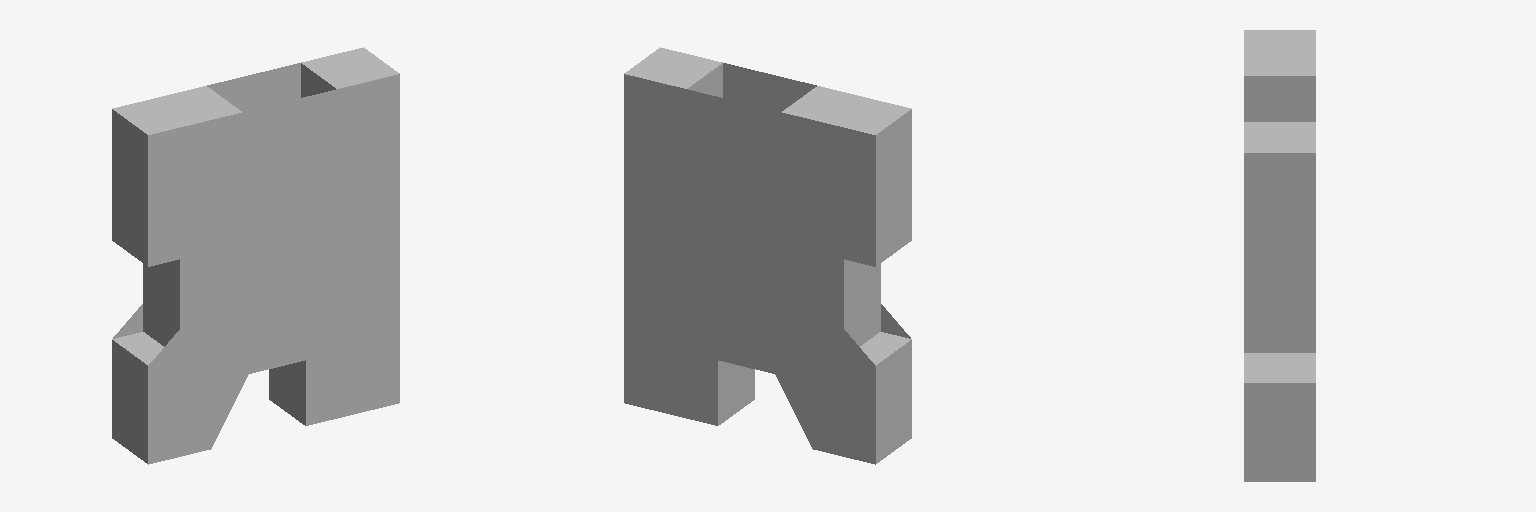
The model's file is building2.obj.
3 renders of one model, left to right at view 1: azimuth 30°, elevation 25°; view 2: azimuth 150°, elevation 25°; view 3: azimuth 270°, elevation 25°, orthographic.
Parts seen in each view (by area): view 1: building1; view 2: building1; view 3: building1.
Part boxes in pixels (left/top/right/bottom): building1: left=112, top=47, right=399, bottom=464; building1: left=624, top=47, right=911, bottom=464; building1: left=1244, top=30, right=1315, bottom=481.
Size of the model in its own units: 40 by 50 by 10.